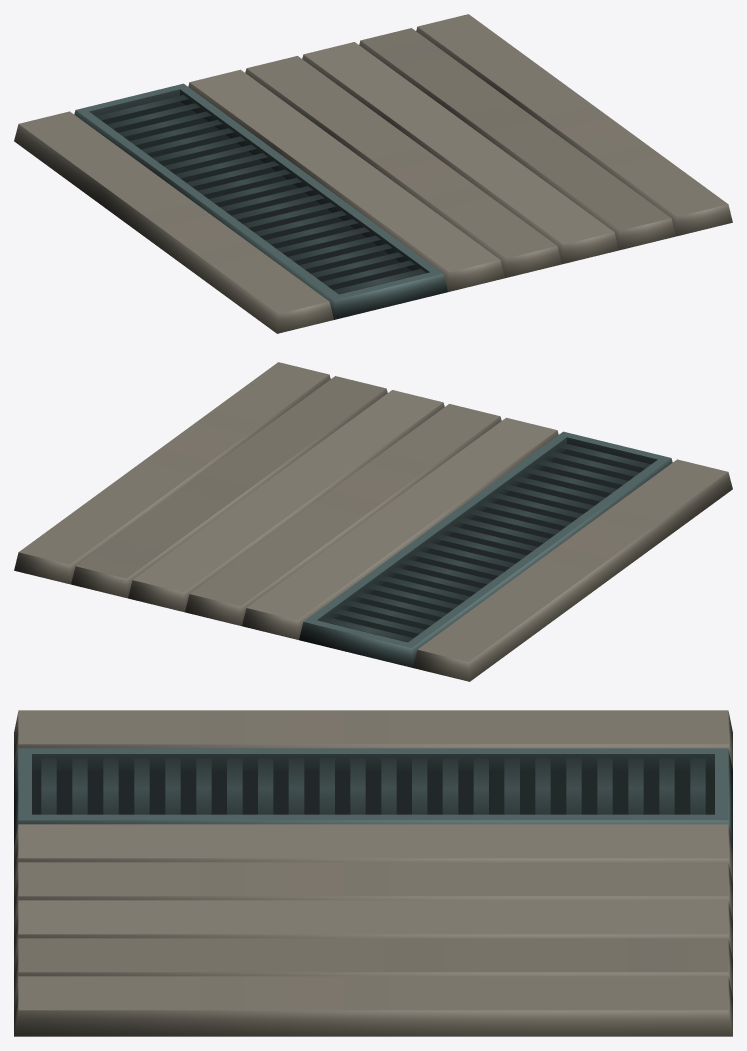
File: Pavement_Industrial_1A_8X8.fbx
The picture shows the model from 3 angles, top to bottom: view 1: azimuth 30°, elevation 25°; view 2: azimuth 150°, elevation 25°; view 3: azimuth 270°, elevation 25°; orthographic projection. The views are drawn at different scales.
Parts seen in each view (by area): view 1: Pavement_Industrial_1A_8X8; view 2: Pavement_Industrial_1A_8X8; view 3: Pavement_Industrial_1A_8X8.
Boxes of the visible parts, left/top/right/bottom form: Pavement_Industrial_1A_8X8: left=14, top=14, right=732, bottom=333; Pavement_Industrial_1A_8X8: left=14, top=362, right=732, bottom=681; Pavement_Industrial_1A_8X8: left=14, top=710, right=732, bottom=1036.
Bounding box in the file's own units: 8 × 0.3 × 8.
